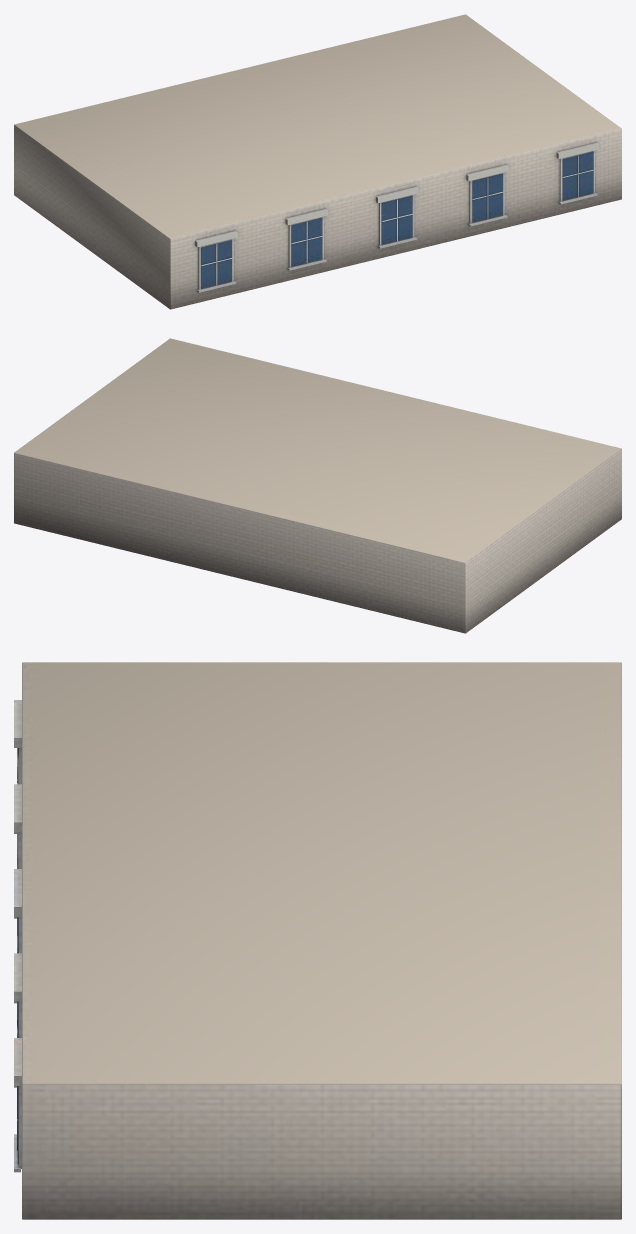
Rendered from planta_ladrillo.glb.
3 renders of one model, top to bottom at view 1: azimuth 30°, elevation 25°; view 2: azimuth 150°, elevation 25°; view 3: azimuth 270°, elevation 25°, orthographic. The views are drawn at different scales.
Parts seen in each view (by area): view 1: planta_ladrillo; view 2: planta_ladrillo; view 3: planta_ladrillo.
Boxes of the visible parts, x1,y1,x2,y2 form: planta_ladrillo: (14, 14, 621, 309); planta_ladrillo: (14, 338, 621, 633); planta_ladrillo: (14, 662, 621, 1219).
Size of the model in its own units: 20 by 3 by 12.16.
Materials: 1 (1 with a texture image).
